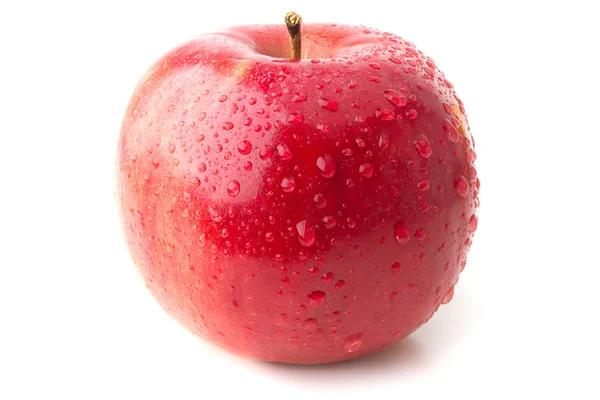Apple: (115, 5, 485, 372)
